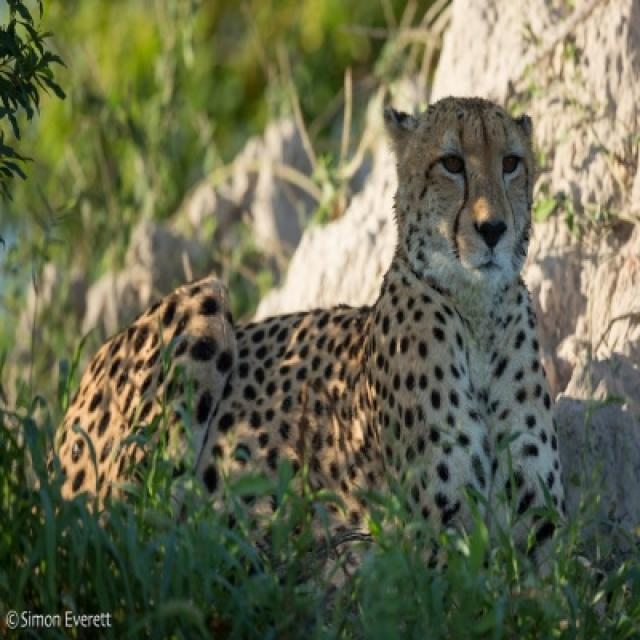Cheetah: (83, 98, 557, 544)
